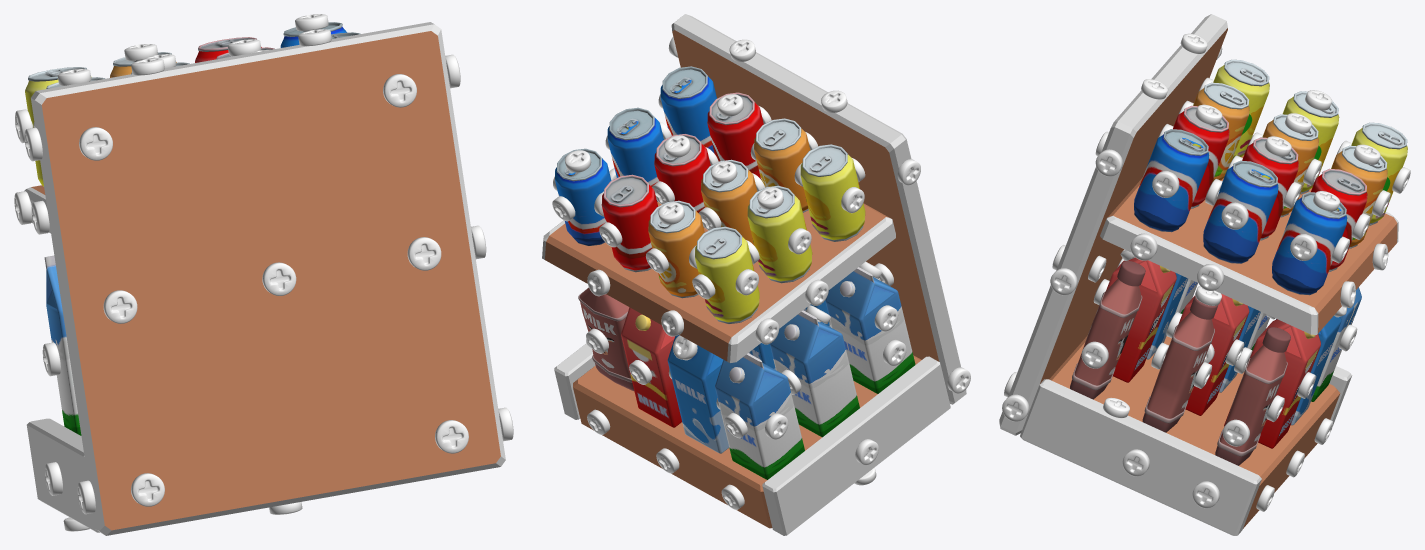
File: GoodsSort_GroupD.fbx
3 views of the same model, side by side, from view 1: azimuth 30°, elevation 25°; view 2: azimuth 150°, elevation 25°; view 3: azimuth 270°, elevation 25° (orthographic). The views are drawn at different scales.
Parts seen in each view (by area): view 1: GoodsSort_007, GoodsSort_012, GoodsSort_004, GoodsSort_009, Screw (10), Screw (11), Screw (8), Screw (12), Screw (6), Screw (9), Screw (7), GoodsSort_029; view 2: GoodsSort_007, GoodsSort_006, GoodsSort_012, GoodsSort_001, GoodsSort_004, GoodsSort_023, GoodsSort_026, GoodsSort_019, GoodsSort_009, GoodsSort_003, GoodsSort_002, GoodsSort_015 (+11 smaller); view 3: GoodsSort_007, GoodsSort_011, GoodsSort_006, GoodsSort_001, GoodsSort_020, GoodsSort_016, GoodsSort_027, GoodsSort_010, GoodsSort_028, GoodsSort_005, GoodsSort_024, GoodsSort_002 (+21 smaller).
Boxes of the visible parts, left/top/right/bottom form: GoodsSort_007: left=31, top=22, right=505, bottom=535; GoodsSort_012: left=26, top=418, right=99, bottom=532; GoodsSort_004: left=44, top=255, right=81, bottom=435; GoodsSort_009: left=25, top=67, right=91, bottom=186; Screw (10): left=407, top=237, right=441, bottom=270; Screw (11): left=103, top=290, right=137, bottom=323; Screw (8): left=383, top=74, right=416, bottom=107; Screw (12): left=262, top=262, right=296, bottom=295; Screw (6): left=435, top=420, right=468, bottom=453; Screw (9): left=79, top=127, right=112, bottom=160; Screw (7): left=131, top=473, right=164, bottom=506; GoodsSort_029: left=195, top=37, right=261, bottom=62; GoodsSort_007: left=671, top=14, right=966, bottom=404; GoodsSort_006: left=542, top=201, right=895, bottom=362; GoodsSort_012: left=762, top=356, right=950, bottom=535; GoodsSort_001: left=573, top=355, right=921, bottom=528; GoodsSort_004: left=715, top=353, right=804, bottom=479; GoodsSort_023: left=770, top=310, right=859, bottom=437; GoodsSort_026: left=825, top=267, right=915, bottom=393; GoodsSort_019: left=800, top=144, right=865, bottom=241; GoodsSort_009: left=695, top=226, right=759, bottom=324; GoodsSort_003: left=667, top=335, right=729, bottom=453; GoodsSort_002: left=621, top=307, right=681, bottom=427; GoodsSort_015: left=747, top=185, right=812, bottom=283; GoodsSort_007: left=999, top=14, right=1227, bottom=435; GoodsSort_011: left=1020, top=379, right=1261, bottom=535; GoodsSort_006: left=1100, top=155, right=1398, bottom=334; GoodsSort_001: left=1049, top=335, right=1340, bottom=528; GoodsSort_020: left=1134, top=129, right=1209, bottom=232; GoodsSort_016: left=1203, top=160, right=1278, bottom=263; GoodsSort_027: left=1142, top=296, right=1217, bottom=432; GoodsSort_010: left=1272, top=192, right=1347, bottom=295; GoodsSort_028: left=1070, top=261, right=1145, bottom=399; GoodsSort_005: left=1215, top=327, right=1290, bottom=465; GoodsSort_024: left=1106, top=257, right=1176, bottom=382; GoodsSort_002: left=1224, top=319, right=1320, bottom=448.
Size of the model in its own units: 9.75 by 10.81 by 9.83.
4 materials, 3 textured.
